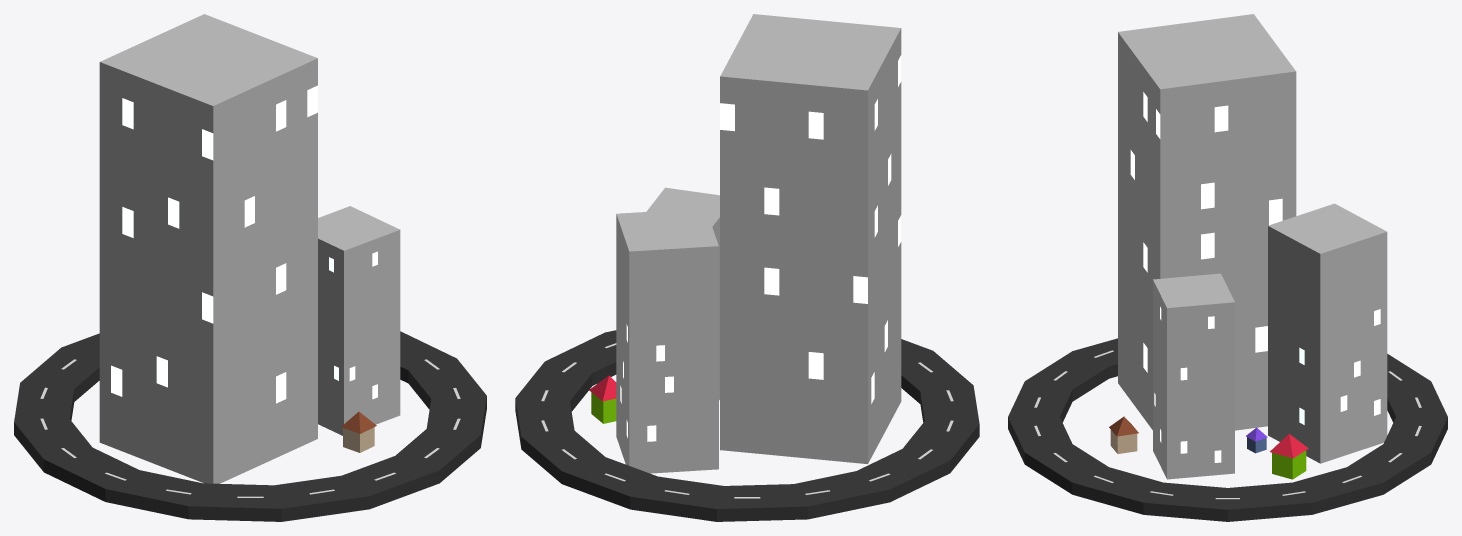
File: city_06_1.fbx
3 views of the same model, side by side, from view 1: azimuth 30°, elevation 25°; view 2: azimuth 150°, elevation 25°; view 3: azimuth 270°, elevation 25° (orthographic). The views are drawn at different scales.
Parts seen in each view (by area): view 1: skyscraperHerBossesBoss, street.004, skyscraperHerBoss, houseHerEx.001, laneMarkings.004; view 2: skyscraperHerBossesBoss, street.004, skyscraper, skyscraperHerBoss, houserHerBestFriend, laneMarkings.004; view 3: skyscraperHerBossesBoss, skyscraper, street.004, skyscraperHerBoss, houserHerBestFriend, houseHerEx.001, laneMarkings.004.
Part boxes in pixels (box(x1,y1,x2,y2)): skyscraperHerBossesBoss: box(99, 14, 317, 483); street.004: box(14, 331, 486, 521); skyscraperHerBoss: box(318, 206, 400, 435); houseHerEx.001: box(341, 412, 376, 452); laneMarkings.004: box(40, 359, 460, 497); skyscraperHerBossesBoss: box(720, 14, 901, 464); street.004: box(515, 330, 979, 521); skyscraper: box(616, 208, 718, 473); skyscraperHerBoss: box(646, 187, 719, 400); houserHerBestFriend: box(589, 375, 616, 423); laneMarkings.004: box(541, 343, 953, 498); skyscraperHerBossesBoss: box(1118, 14, 1296, 430); skyscraper: box(1268, 203, 1387, 463); street.004: box(1008, 338, 1447, 521); skyscraperHerBoss: box(1153, 273, 1234, 479); houserHerBestFriend: box(1270, 434, 1308, 479); houseHerEx.001: box(1109, 416, 1138, 453); laneMarkings.004: box(1034, 350, 1421, 499).
Size of the model in its own units: 86.3 by 76.51 by 86.3.
